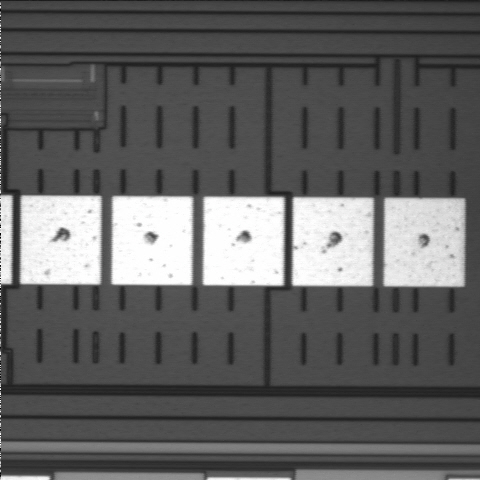pad: (20, 196, 101, 285), (112, 196, 193, 285), (203, 197, 284, 286), (292, 197, 373, 286), (384, 198, 465, 286)
